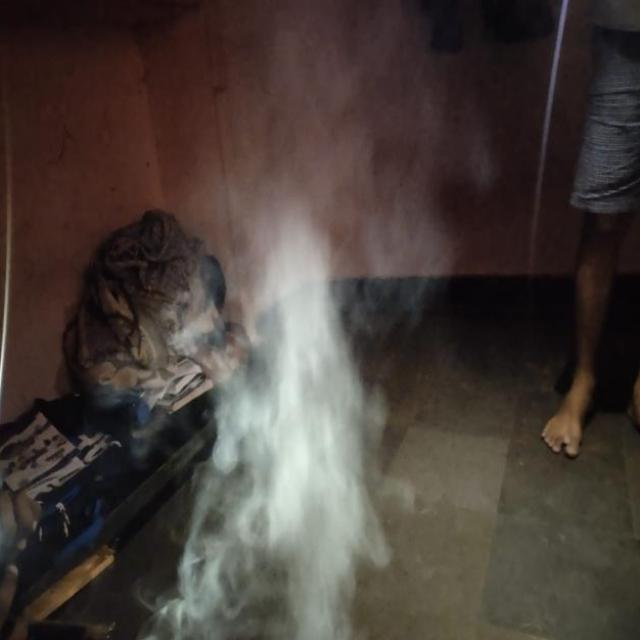fire: (170, 200, 392, 640)
